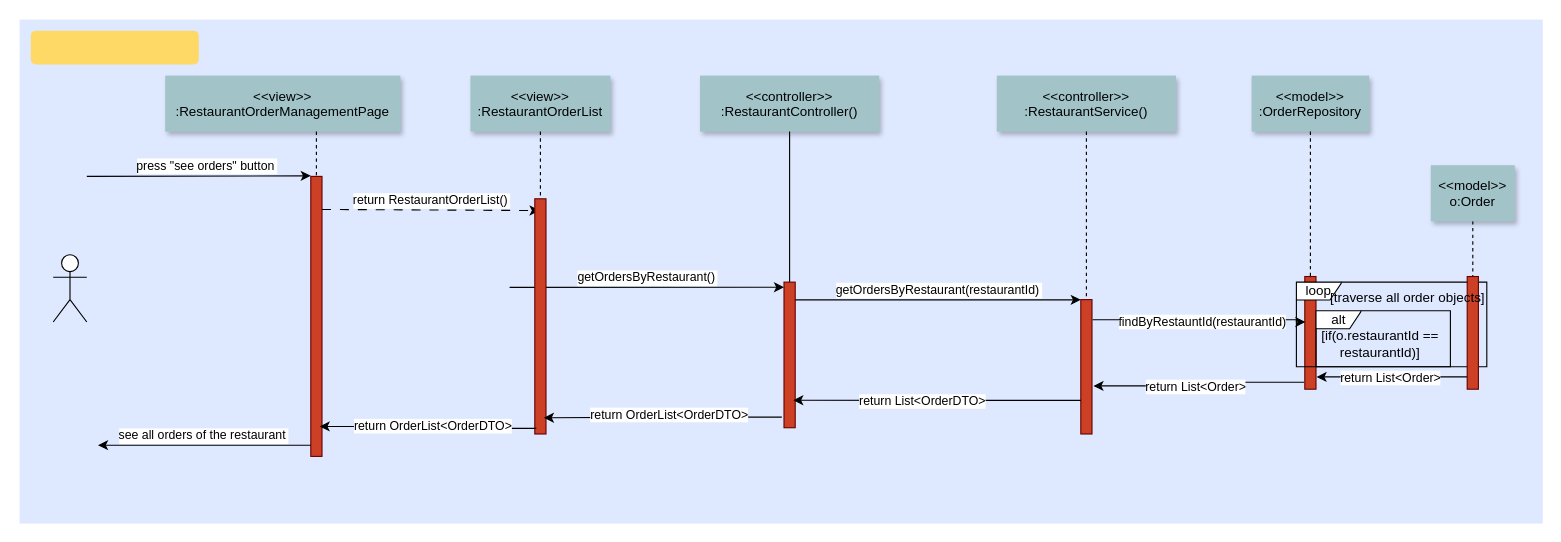
Some shapes in this 1561 by 542 pixel diagram are drawn without their labels. The shapes that lost their labels are listed below. From the top down, each one's centre as x and y in pixels, then its label:
point (114, 47): view orders
point (69, 288): Restaurant
